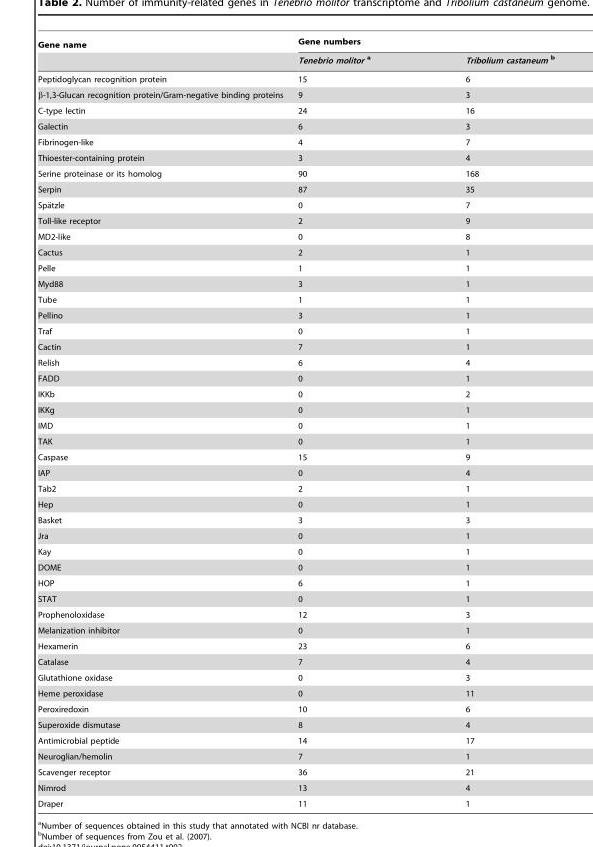table: (37, 36, 554, 807)
table column: (37, 36, 289, 807), (416, 36, 554, 807), (289, 36, 416, 807)
table column header: (37, 36, 554, 69)
table row: (37, 51, 554, 69), (37, 69, 554, 86), (37, 86, 554, 102), (37, 102, 554, 118), (37, 118, 554, 134), (37, 149, 554, 165), (37, 165, 554, 181), (37, 181, 554, 197), (37, 212, 554, 228), (37, 228, 554, 244), (37, 244, 554, 260), (37, 275, 554, 291), (37, 291, 554, 307), (37, 307, 554, 323), (37, 338, 554, 354), (37, 354, 554, 370), (37, 370, 554, 386), (37, 401, 554, 417), (37, 417, 554, 433), (37, 433, 554, 449), (37, 464, 554, 480), (37, 480, 554, 496), (37, 496, 554, 512), (37, 527, 554, 543), (37, 543, 554, 559), (37, 559, 554, 575), (37, 590, 554, 606), (37, 606, 554, 622), (37, 622, 554, 638), (37, 653, 554, 669), (37, 669, 554, 685), (37, 685, 554, 701), (37, 716, 554, 732), (37, 732, 554, 748), (37, 748, 554, 764), (37, 779, 554, 795), (37, 36, 554, 51), (37, 134, 554, 149), (37, 197, 554, 212), (37, 260, 554, 275), (37, 323, 554, 338), (37, 386, 554, 401), (37, 449, 554, 464), (37, 512, 554, 527), (37, 575, 554, 590), (37, 638, 554, 653), (37, 701, 554, 716), (37, 764, 554, 779), (37, 795, 554, 807)
table spanning cell: (37, 36, 289, 69), (289, 36, 554, 51)
